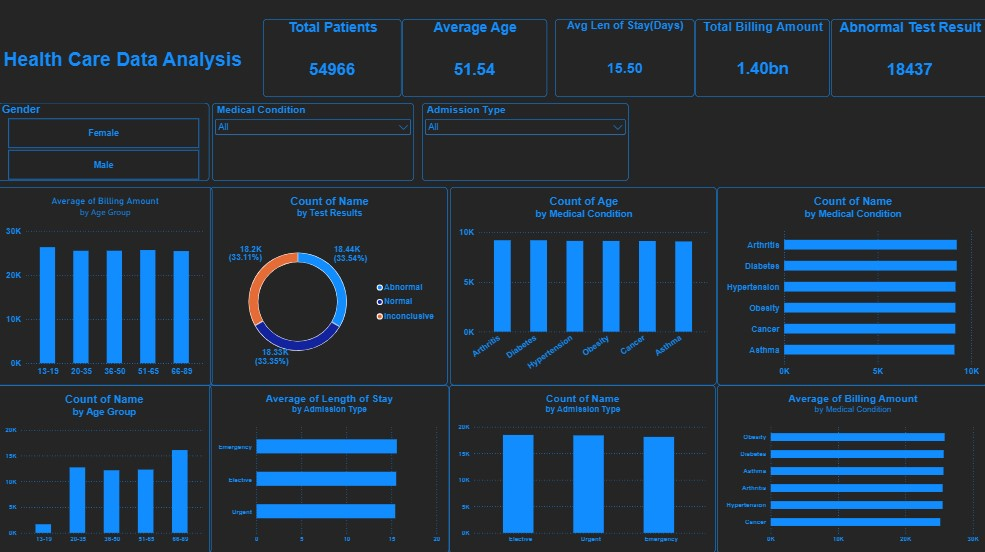

The page's visual inventory and layout, read from the dashboard file:
{"tool":"powerbi","page":{"name":"Page 1","canvas":[1920,1080],"ordinal":0},"visuals":[{"type":"donutChart","fields":{"Category":["healthcare_cleaned.Test Results"],"Y":["CountNonNull(healthcare_cleaned.Name)"]},"box":[415,369.5,460.4,384],"z":0},{"type":"cardVisual","title":"Total Patients","fields":{"Data":["CountNonNull(healthcare_cleaned.Name)"]},"box":[516.6,44.6,267.9,150.9],"z":1000},{"type":"clusteredColumnChart","fields":{"Category":["healthcare_cleaned.Medical Condition"],"Y":["CountNonNull(healthcare_cleaned.Age)"]},"box":[879.5,369.5,516.1,384],"z":2000},{"type":"cardVisual","title":"Average Age","fields":{"Data":["Avg(healthcare_cleaned.Age)"]},"box":[786.1,45.4,280.6,150.9],"z":3000},{"type":"cardVisual","title":"Total Billing Amount","fields":{"Data":["Sum(healthcare_cleaned.Billing Amount)"]},"box":[1352.1,44.6,261.5,150.9],"z":5000},{"type":"clusteredBarChart","fields":{"Category":["healthcare_cleaned.Medical Condition"],"Y":["CountNonNull(healthcare_cleaned.Name)"]},"box":[1395.6,369.5,524.4,384],"z":6000},{"type":"clusteredColumnChart","fields":{"Category":["healthcare_cleaned.Age Group"],"Y":["CountNonNull(healthcare_cleaned.Name)"]},"box":[0,753.5,417,326.2],"z":7000},{"type":"clusteredColumnChart","fields":{"Category":["healthcare_cleaned.Admission Type"],"Y":["CountNonNull(healthcare_cleaned.Name)"]},"box":[877.4,753.5,516.1,326.2],"z":8000},{"type":"clusteredBarChart","fields":{"Category":["healthcare_cleaned.Medical Condition"],"Y":["Avg(healthcare_cleaned.Billing Amount)"]},"box":[1395.6,753.5,524.4,326.2],"z":9000},{"type":"clusteredBarChart","fields":{"Category":["healthcare_cleaned.Admission Type"],"Y":["Avg(healthcare_cleaned.Length of Stay)"]},"box":[412.9,753.5,464.5,326.2],"z":10000},{"type":"clusteredColumnChart","fields":{"Category":["healthcare_cleaned.Age Group"],"Y":["Avg(healthcare_cleaned.Billing Amount)"]},"box":[2.1,369.5,417,384],"z":11000},{"type":"textbox","box":[2.1,44.6,486.9,150.9],"z":12000},{"type":"cardVisual","title":"Abnormal Test Result","fields":{"Data":["CountNonNull(healthcare_cleaned.Test Results)"]},"box":[1615.7,44.6,304,150.9],"z":13000},{"type":"slicer","fields":{"Values":["healthcare_cleaned.Gender"]},"box":[2.5,206.6,410.7,151.2],"z":13001},{"type":"slicer","fields":{"Values":["healthcare_cleaned.Medical Condition"]},"box":[418.8,206.2,391.2,150.9],"z":13002},{"type":"slicer","fields":{"Values":["healthcare_cleaned.Admission Type"]},"box":[824.9,206.2,399.7,150.9],"z":13003},{"type":"cardVisual","title":"Avg Len of Stay(Days)","fields":{"Data":["Avg(healthcare_cleaned.Length of Stay)"]},"box":[1082.1,44.6,270,150.9],"z":13005}]}

Visuals, with their boxes in screenshot pixels (x1, y1, x2, y2), scaled from the page's 1920x1080 canvas onto the 985x552 screenshot:
donutChart - healthcare_cleaned.Test Results x CountNonNull(healthcare_cleaned.Name): x1=213, y1=189, x2=449, y2=385
"Total Patients" cardVisual: x1=265, y1=23, x2=402, y2=100
clusteredColumnChart - healthcare_cleaned.Medical Condition x CountNonNull(healthcare_cleaned.Age): x1=451, y1=189, x2=716, y2=385
"Average Age" cardVisual: x1=403, y1=23, x2=547, y2=100
"Total Billing Amount" cardVisual: x1=694, y1=23, x2=828, y2=100
clusteredBarChart - healthcare_cleaned.Medical Condition x CountNonNull(healthcare_cleaned.Name): x1=716, y1=189, x2=984, y2=385
clusteredColumnChart - healthcare_cleaned.Age Group x CountNonNull(healthcare_cleaned.Name): x1=0, y1=385, x2=214, y2=551
clusteredColumnChart - healthcare_cleaned.Admission Type x CountNonNull(healthcare_cleaned.Name): x1=450, y1=385, x2=715, y2=551
clusteredBarChart - healthcare_cleaned.Medical Condition x Avg(healthcare_cleaned.Billing Amount): x1=716, y1=385, x2=984, y2=551
clusteredBarChart - healthcare_cleaned.Admission Type x Avg(healthcare_cleaned.Length of Stay): x1=212, y1=385, x2=450, y2=551
clusteredColumnChart - healthcare_cleaned.Age Group x Avg(healthcare_cleaned.Billing Amount): x1=1, y1=189, x2=215, y2=385
textbox: x1=1, y1=23, x2=251, y2=100
"Abnormal Test Result" cardVisual: x1=829, y1=23, x2=984, y2=100
slicer - healthcare_cleaned.Gender: x1=1, y1=106, x2=212, y2=183
slicer - healthcare_cleaned.Medical Condition: x1=215, y1=105, x2=416, y2=183
slicer - healthcare_cleaned.Admission Type: x1=423, y1=105, x2=628, y2=183
"Avg Len of Stay(Days)" cardVisual: x1=555, y1=23, x2=694, y2=100
